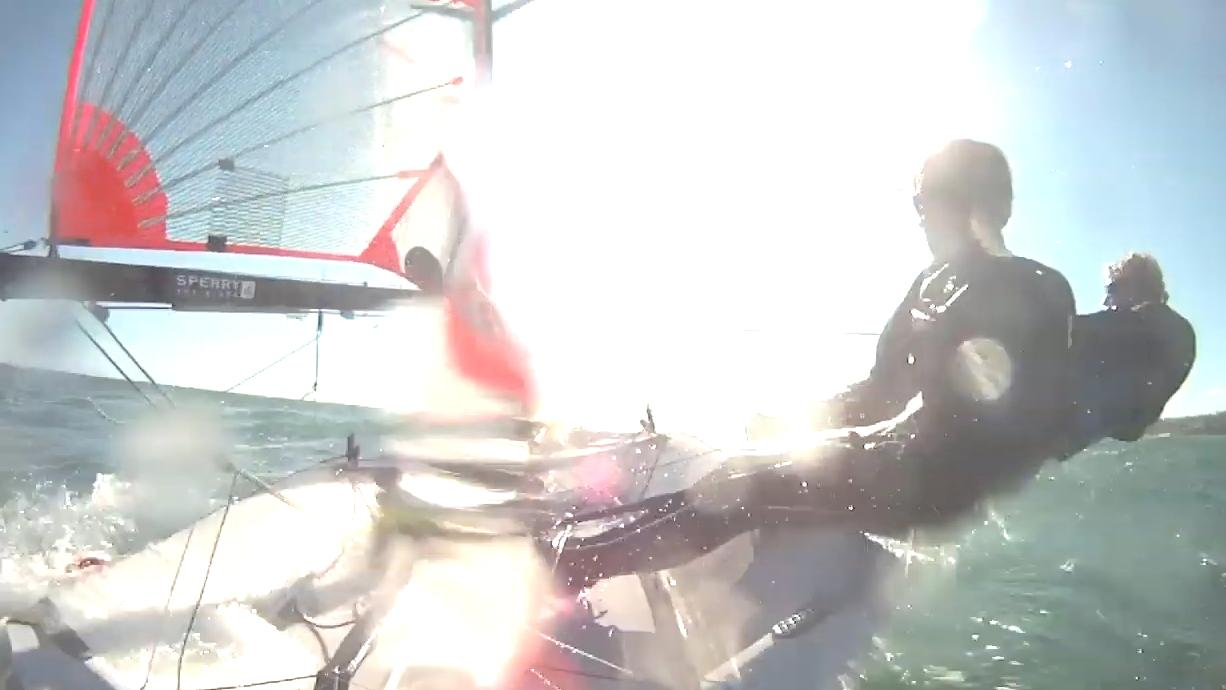boat: (0, 0, 896, 690)
sea: (0, 364, 399, 621), (864, 435, 1226, 690)
sky: (448, 0, 1226, 432), (0, 300, 403, 406), (0, 0, 81, 251)
